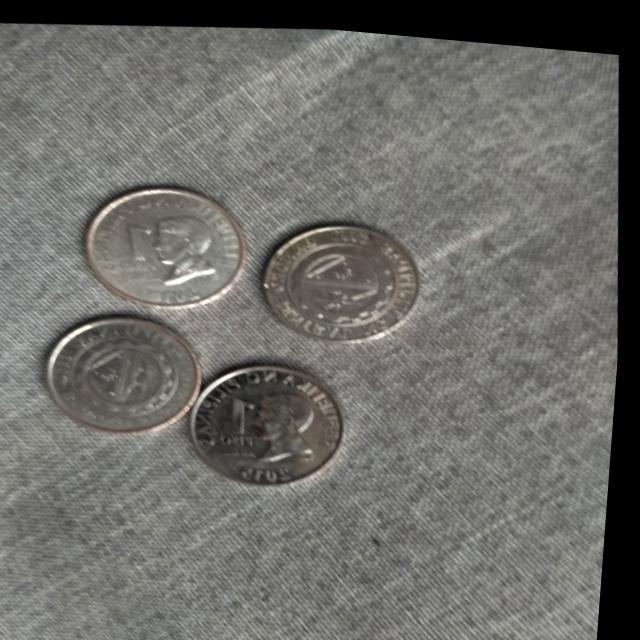1_Old_Back: (61, 319, 192, 424)
